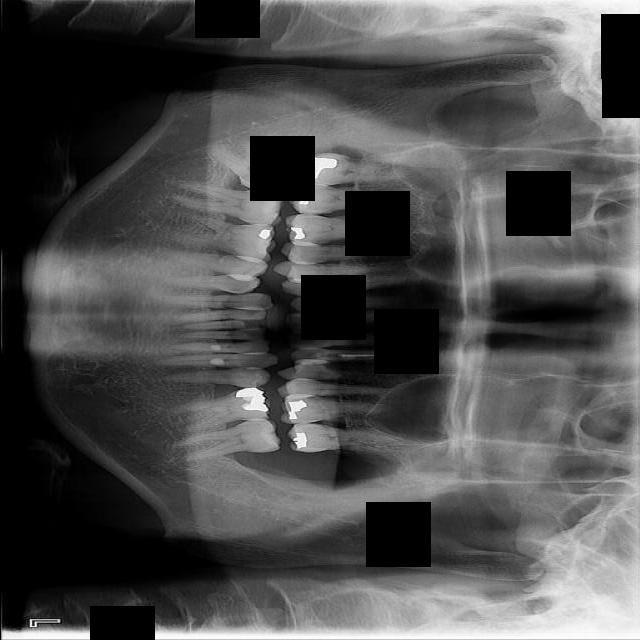3M ESPE Implant: (300, 151, 424, 186)
52: (227, 214, 282, 271), (224, 381, 274, 431), (297, 148, 354, 190), (283, 210, 331, 250), (287, 182, 338, 217), (286, 420, 332, 455), (280, 394, 327, 424), (216, 351, 278, 371), (217, 340, 269, 357), (233, 416, 247, 421), (256, 416, 269, 421)
73: (332, 348, 402, 363), (60, 598, 70, 606)
BioHorizons Implant: (286, 421, 409, 456)
Blue Sky Bio Implant: (174, 415, 281, 463)
Caries: (287, 176, 435, 217)
Implant: (170, 180, 285, 229)
Keystone Dental Implant: (198, 120, 301, 206)
